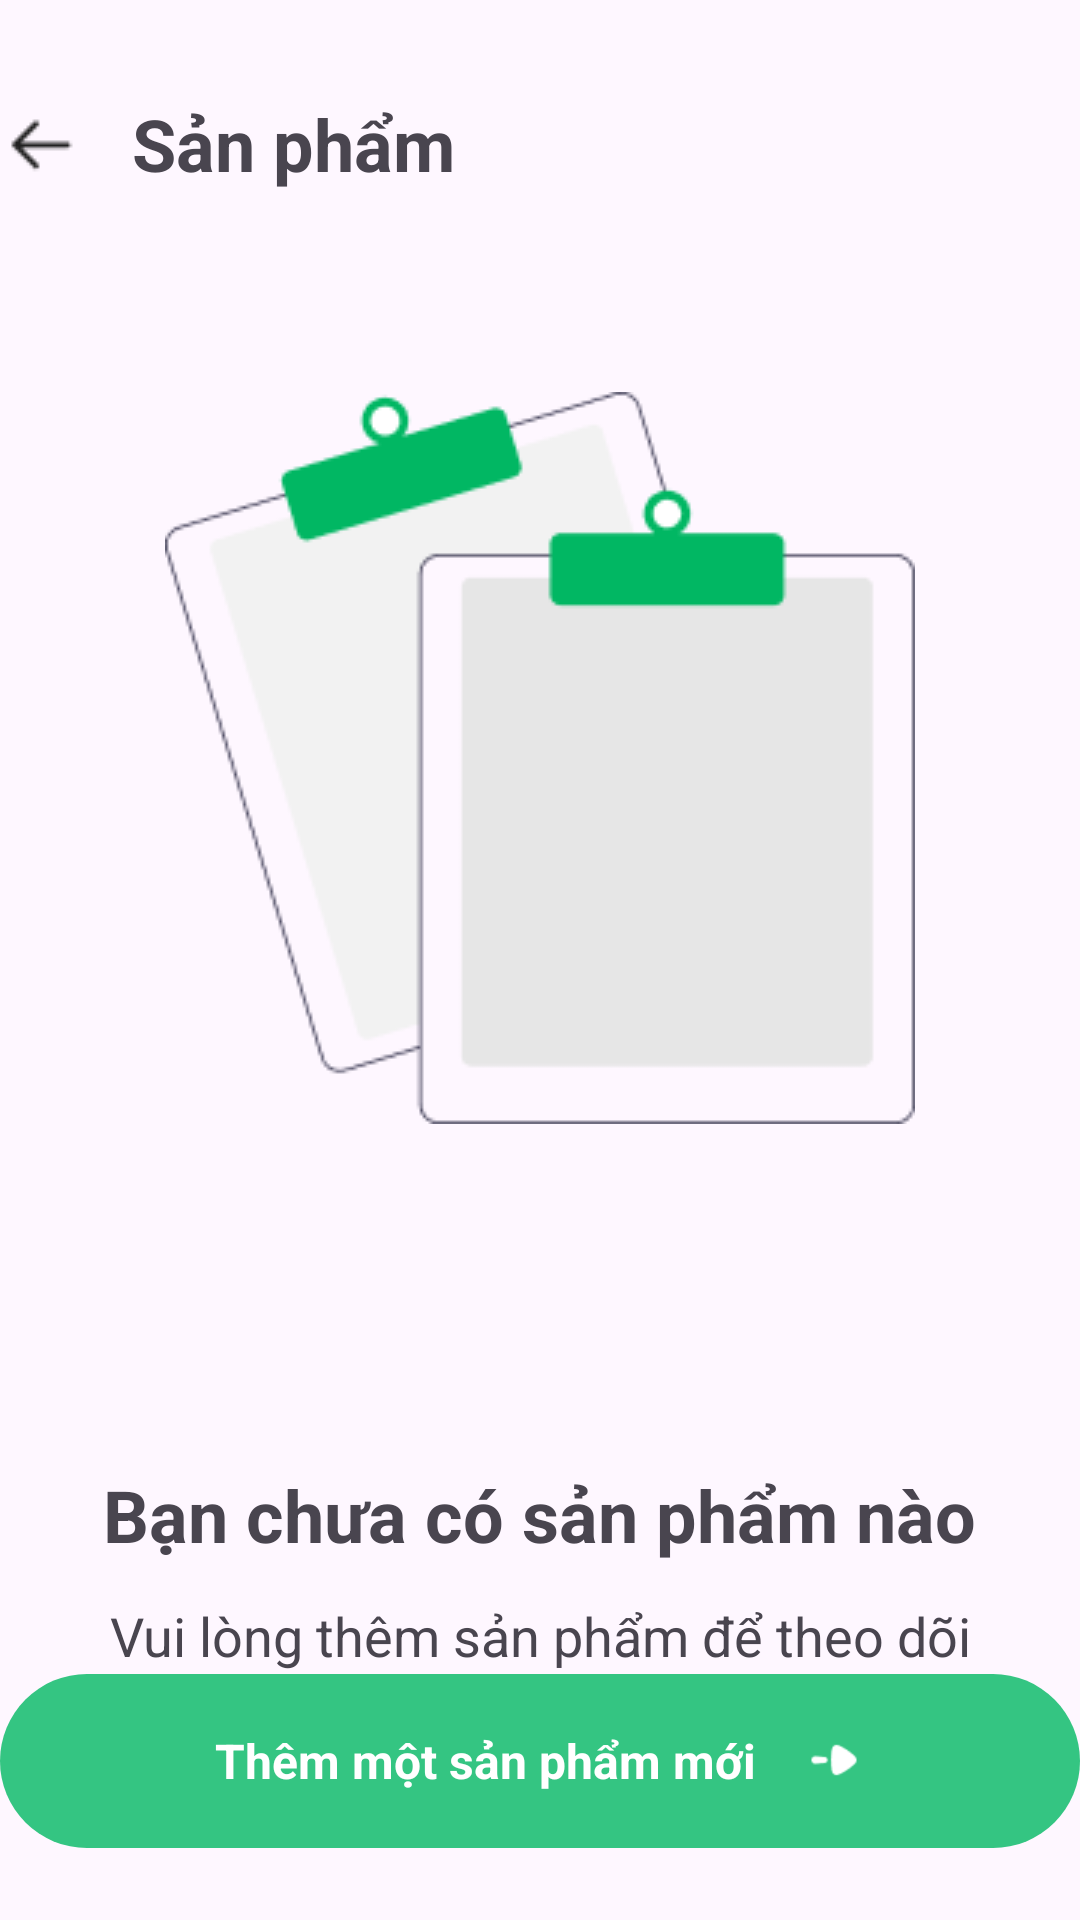

Icons on this 1080px×1920px Android screen, each with its box as [left=x1, top=y1, right=x2, bottom=y2]:
back: [left=11, top=119, right=72, bottom=170]
next: [left=811, top=1744, right=857, bottom=1776]
